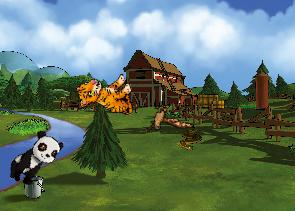eagle: (138, 95, 195, 145)
panda: (3, 126, 66, 192)
tiger: (74, 68, 138, 126)
